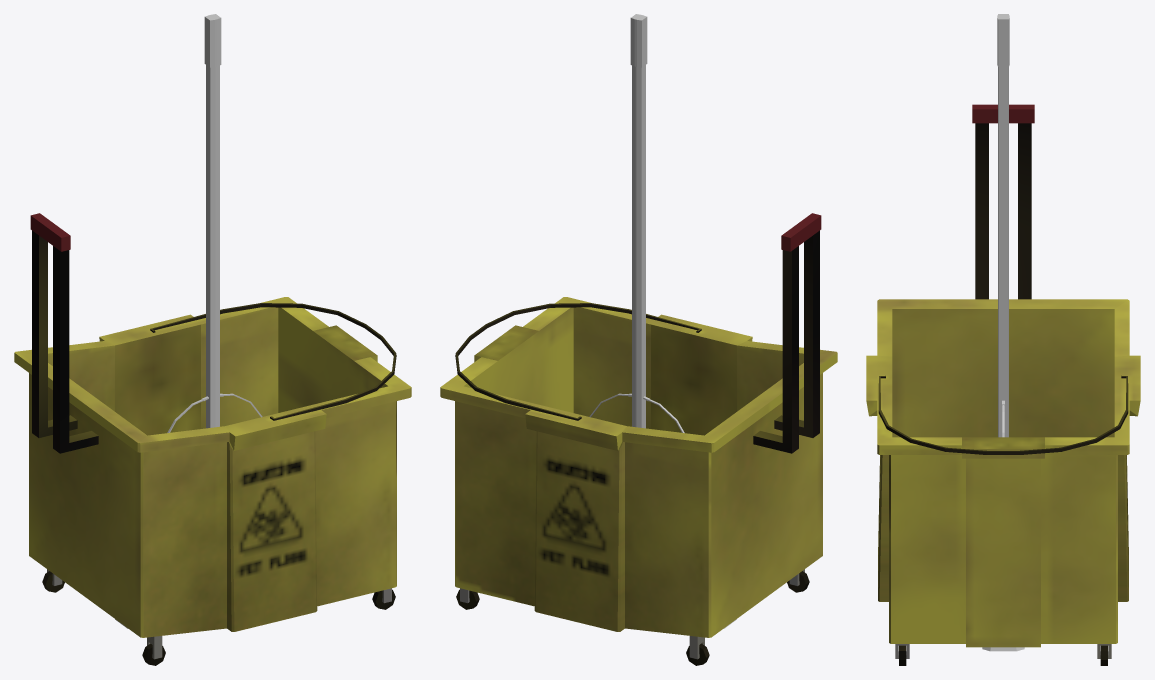
File: Cleaning Supplies.fbx
The picture shows the model from 3 angles, left to right: view 1: azimuth 30°, elevation 25°; view 2: azimuth 150°, elevation 25°; view 3: azimuth 270°, elevation 25°; orthographic projection.
Visible parts, largest first — view 1: Cleaning Bucket, Mop; view 2: Cleaning Bucket, Mop; view 3: Cleaning Bucket, Mop.
Boxes of the visible parts, x1=… form: Cleaning Bucket: x1=14, y1=213, x2=411, y2=665; Mop: x1=115, y1=14, x2=221, y2=628; Cleaning Bucket: x1=440, y1=213, x2=837, y2=665; Mop: x1=630, y1=14, x2=736, y2=628; Cleaning Bucket: x1=866, y1=104, x2=1140, y2=665; Mop: x1=982, y1=14, x2=1024, y2=651.
Size of the model in its own units: 0.9858 by 1.68 by 0.7069.
